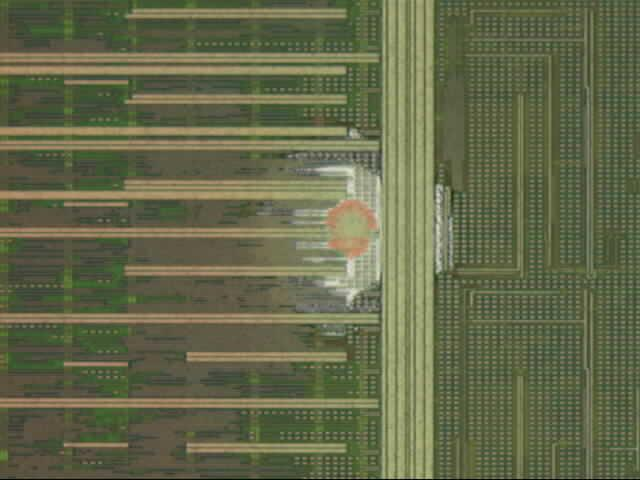BLOCK ETCH: (247, 119, 468, 344)
